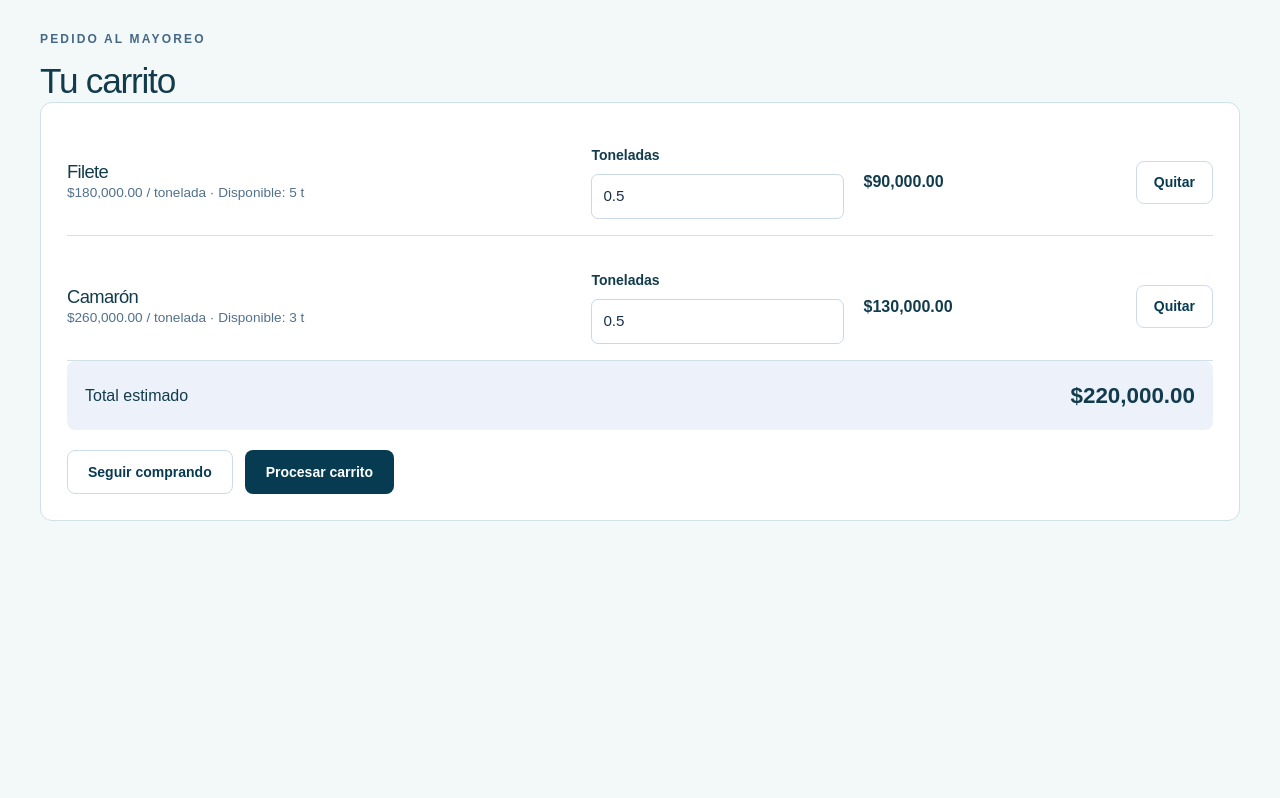
Test: elige cantidades en la página y prepara un único carrito para Telegram sin registrar ventas
Replace the text in the number field named "Toneladas de Filete" with "1" at coordinates (718, 197), box x1=591 y1=174 x2=844 y2=219
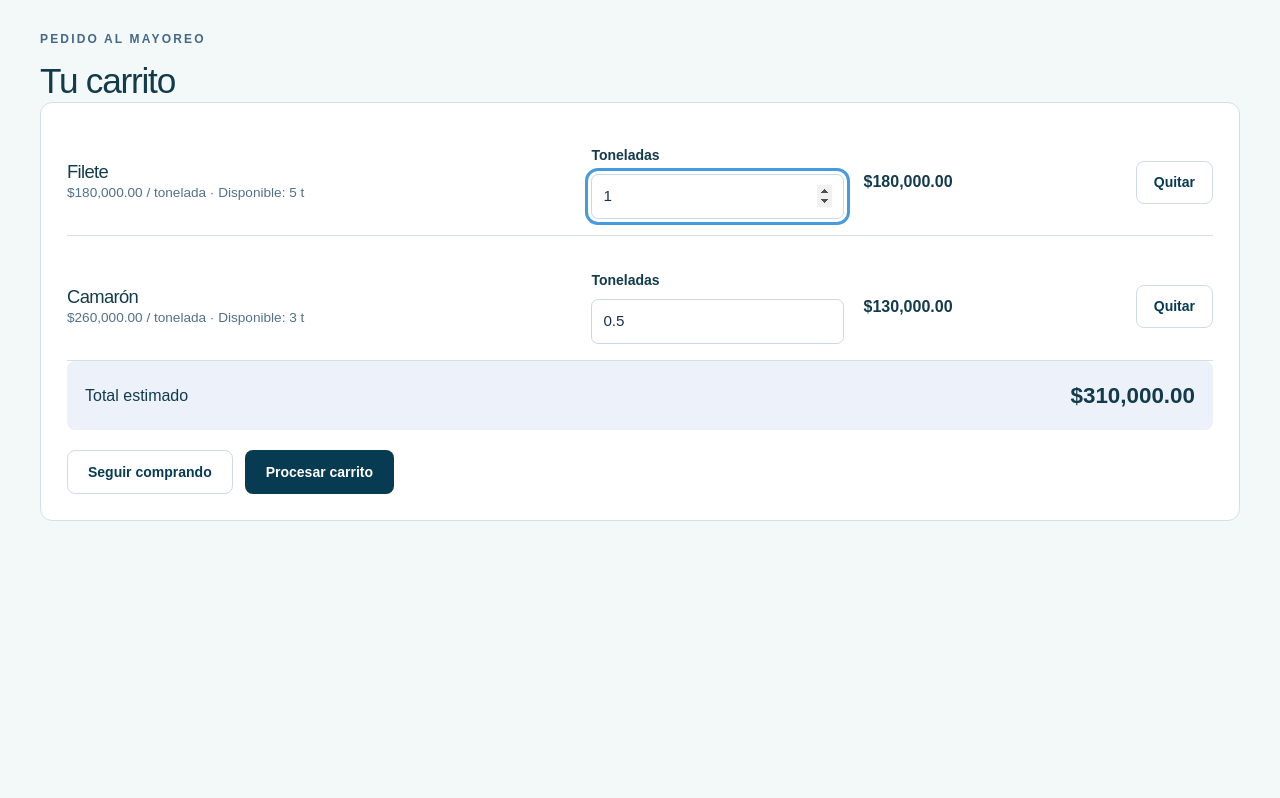
Result: the text "$310,000.00" is shown at x1=1070 y1=379 x2=1195 y2=412
Click the button "Procesar carrito" at coordinates (319, 472), box x1=245 y1=450 x2=394 y2=494
(page scrolled)
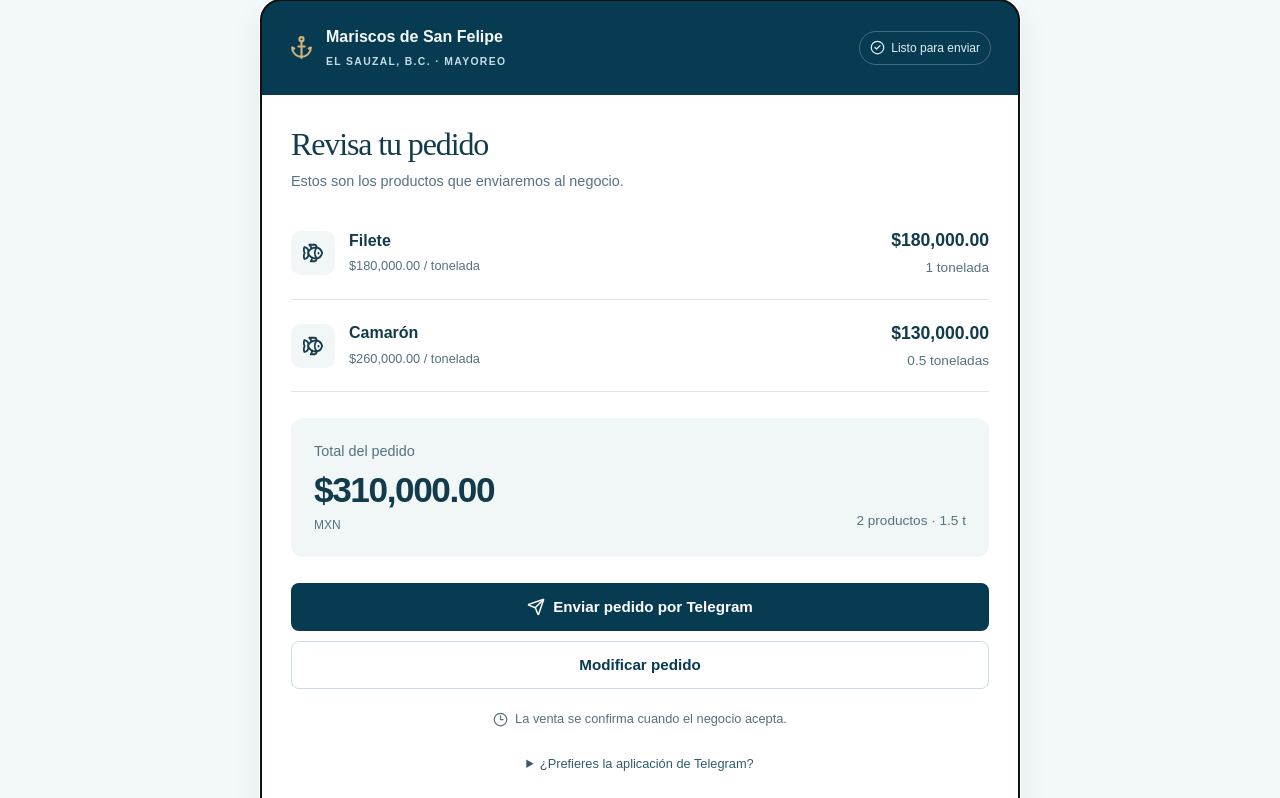
Result: the heading "Revisa tu pedido" is shown at x1=291 y1=126 x2=488 y2=162
Result: the button "Procesar carrito" is gone
Click the button "Modificar pedido" at coordinates (640, 666), box x1=291 y1=642 x2=989 y2=690
(page scrolled)
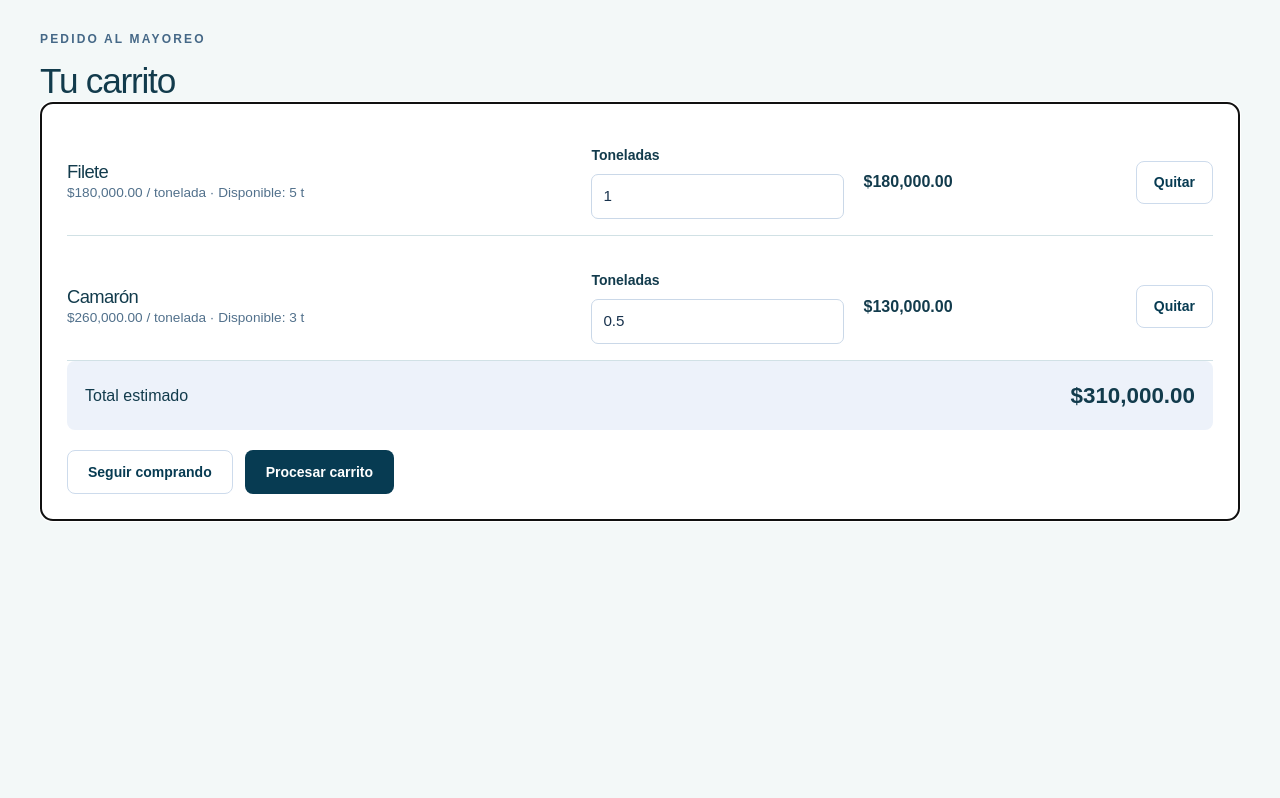
Result: the number field named "Toneladas de Filete" holds "1" at x1=591 y1=174 x2=844 y2=219
Result: the heading "Revisa tu pedido" is gone
